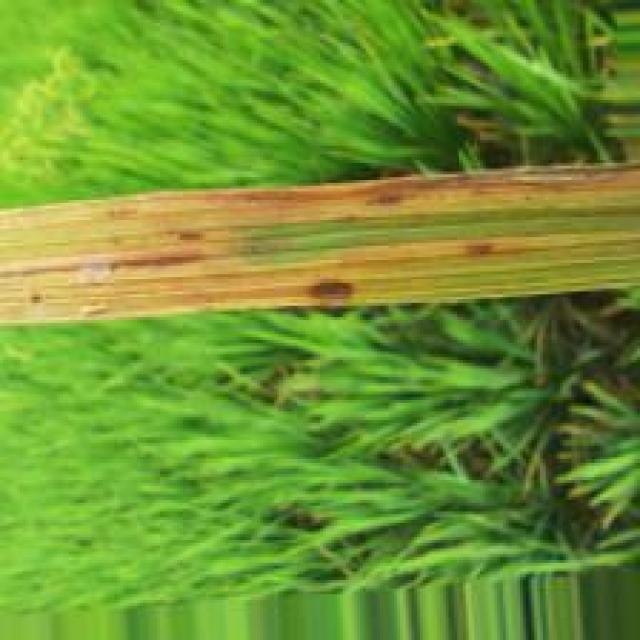Leaf_Blast: (0, 158, 639, 325)
